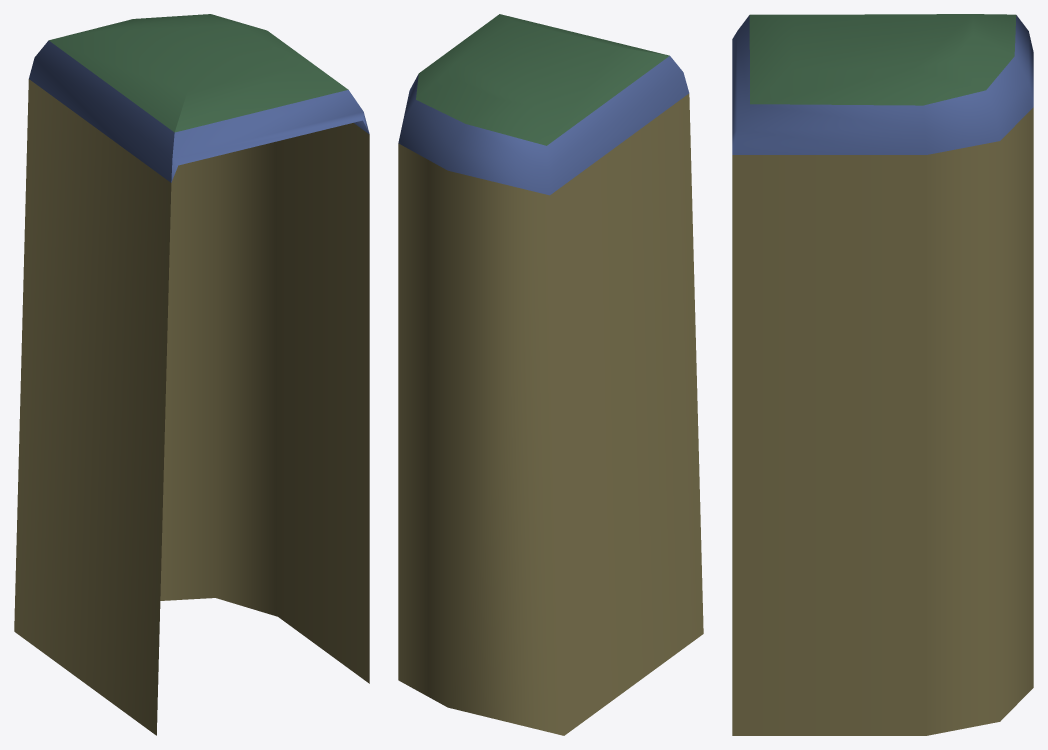
The model's file is Plat_secret_1.fbx.
3 views of the same model, side by side, from view 1: azimuth 30°, elevation 25°; view 2: azimuth 150°, elevation 25°; view 3: azimuth 270°, elevation 25° (orthographic). The views are drawn at different scales.
Parts seen in each view (by area): view 1: Plat_secret_1, Ground7, Wall7; view 2: Plat_secret_1, Ground7, Wall7; view 3: Plat_secret_1, Ground7, Wall7.
Part boxes in pixels (x1,y1,x2,y2): Plat_secret_1: (14, 79, 369, 735); Ground7: (49, 14, 348, 132); Wall7: (29, 40, 369, 182); Plat_secret_1: (398, 93, 703, 735); Ground7: (416, 14, 669, 145); Wall7: (398, 56, 689, 195); Plat_secret_1: (732, 107, 1033, 735); Ground7: (749, 14, 1016, 105); Wall7: (732, 15, 1033, 154).
Bounding box in the file's own units: 2004 × 5462 × 2324.
